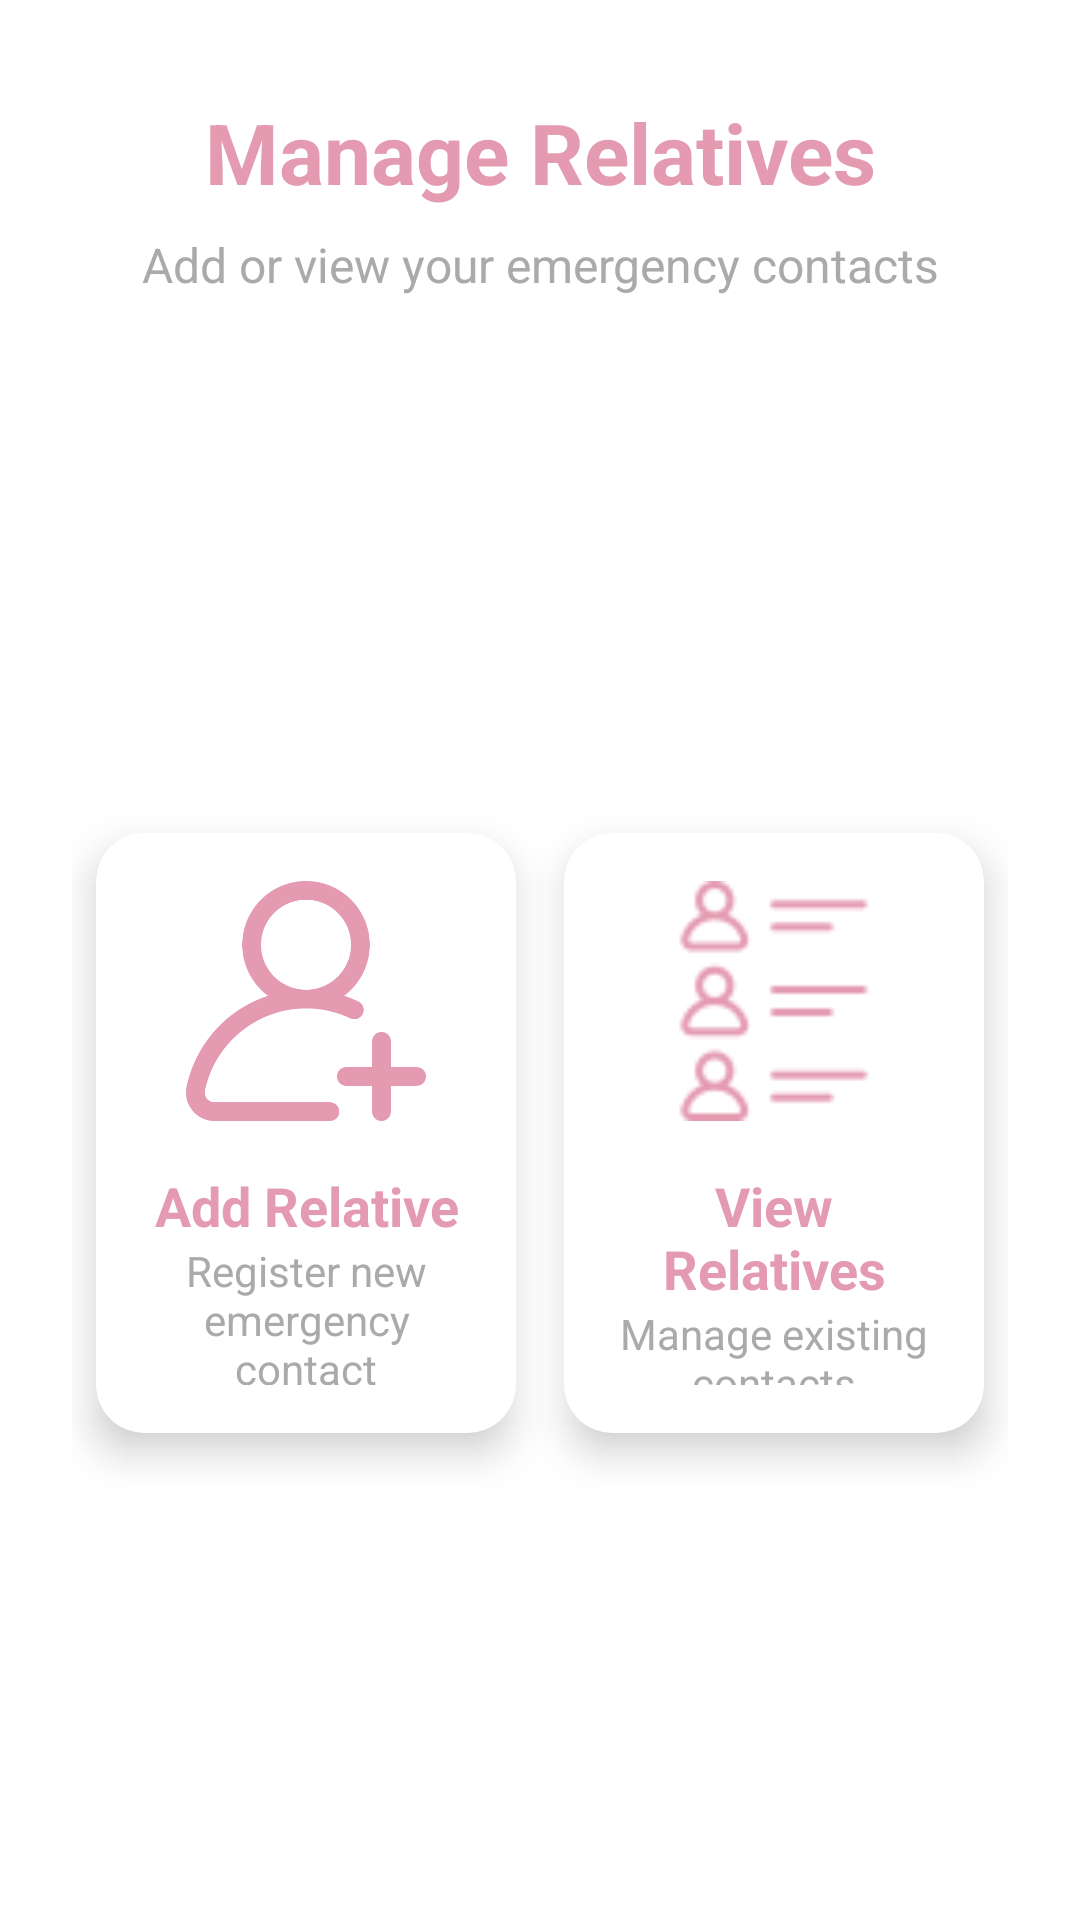

Named icons in this screenshot (1080px x 1920px) and their bounding boxes, box=[x1, y1, x2, y2]:
user list: box=[680, 881, 868, 1121]
